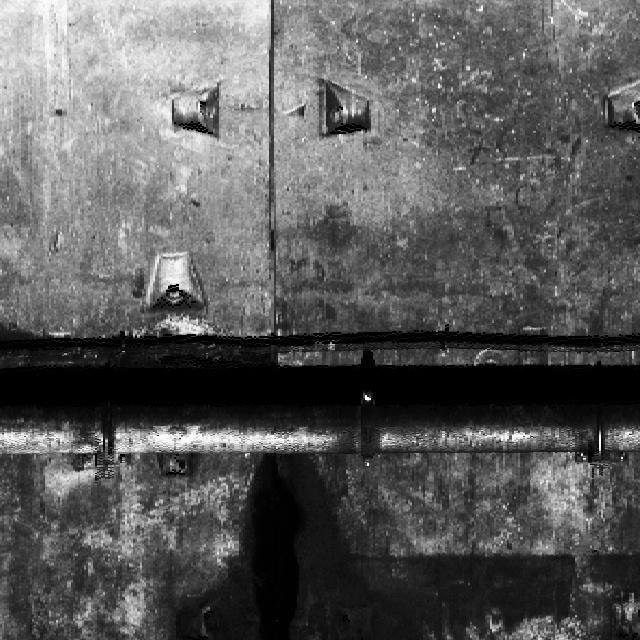leakage: (165, 441, 430, 639)
